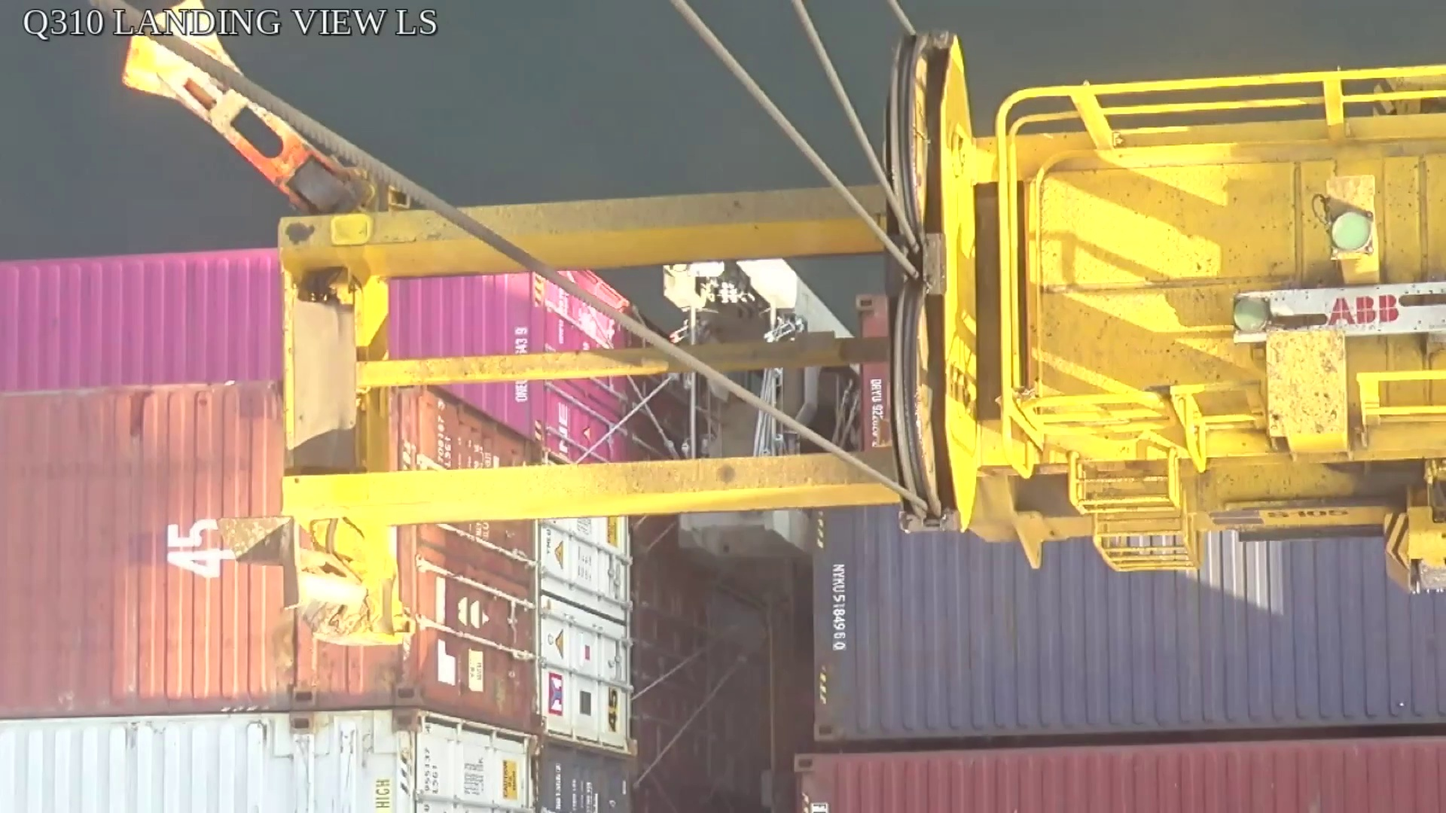aa: (885, 31, 981, 536)
